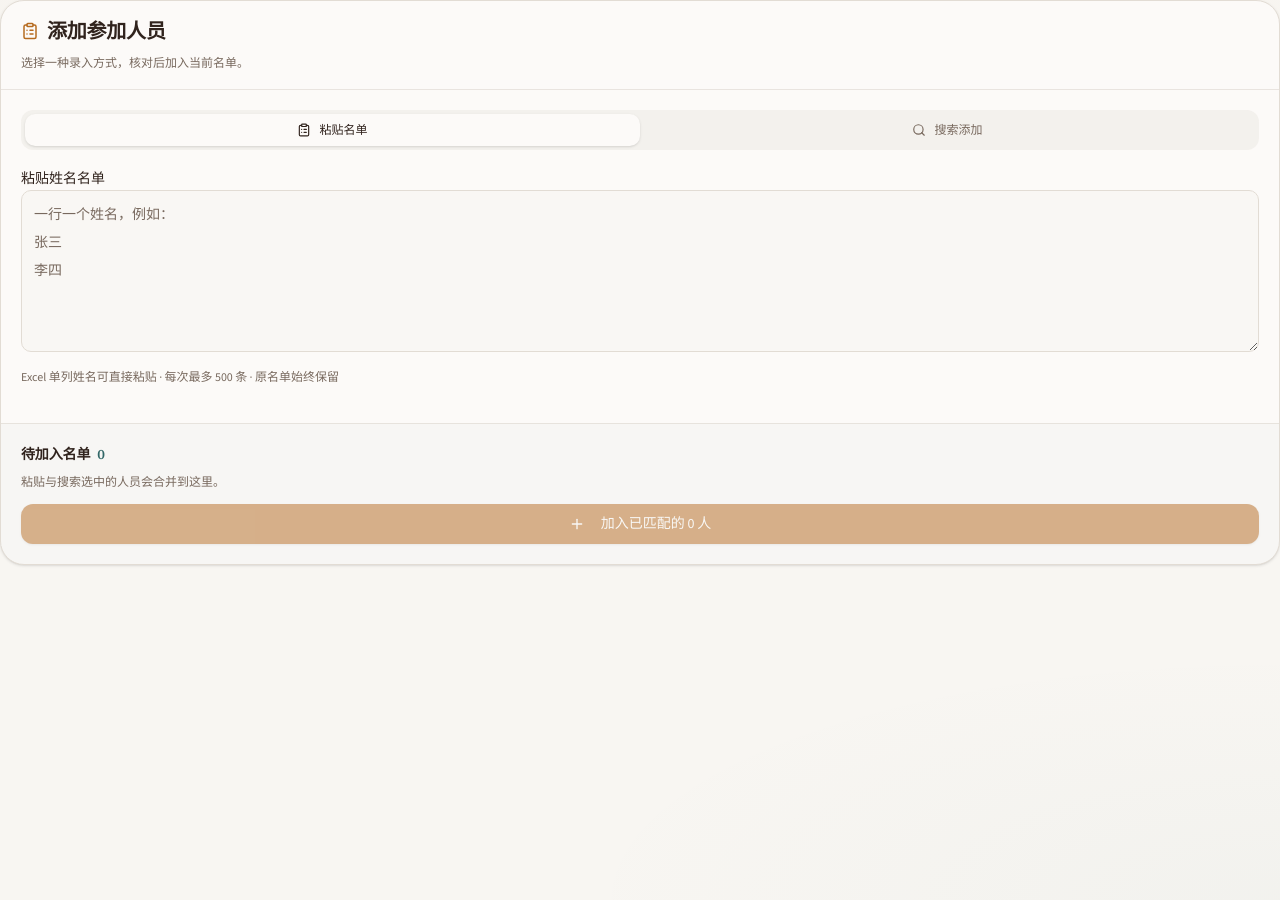
Test: training paste and shared draft › deduplicates search selection and pasted results in the shared pending list
The width and height of the screenshot is (1280, 900).
Click the tab "搜索添加": point(948, 130) [640,114,1255,146]
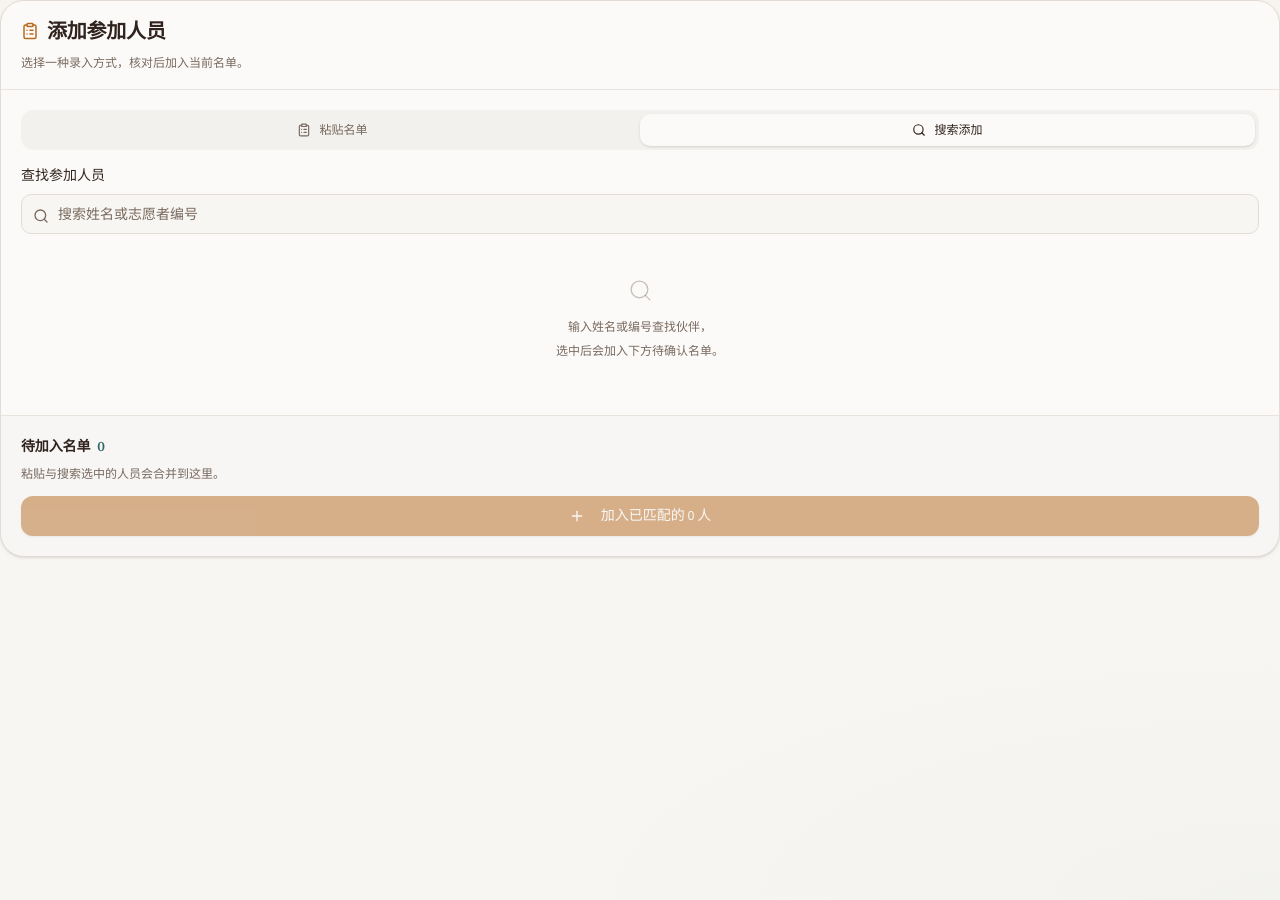
In the field named "搜索参加人员": point(640, 214) [21,194,1259,234], type "张三"
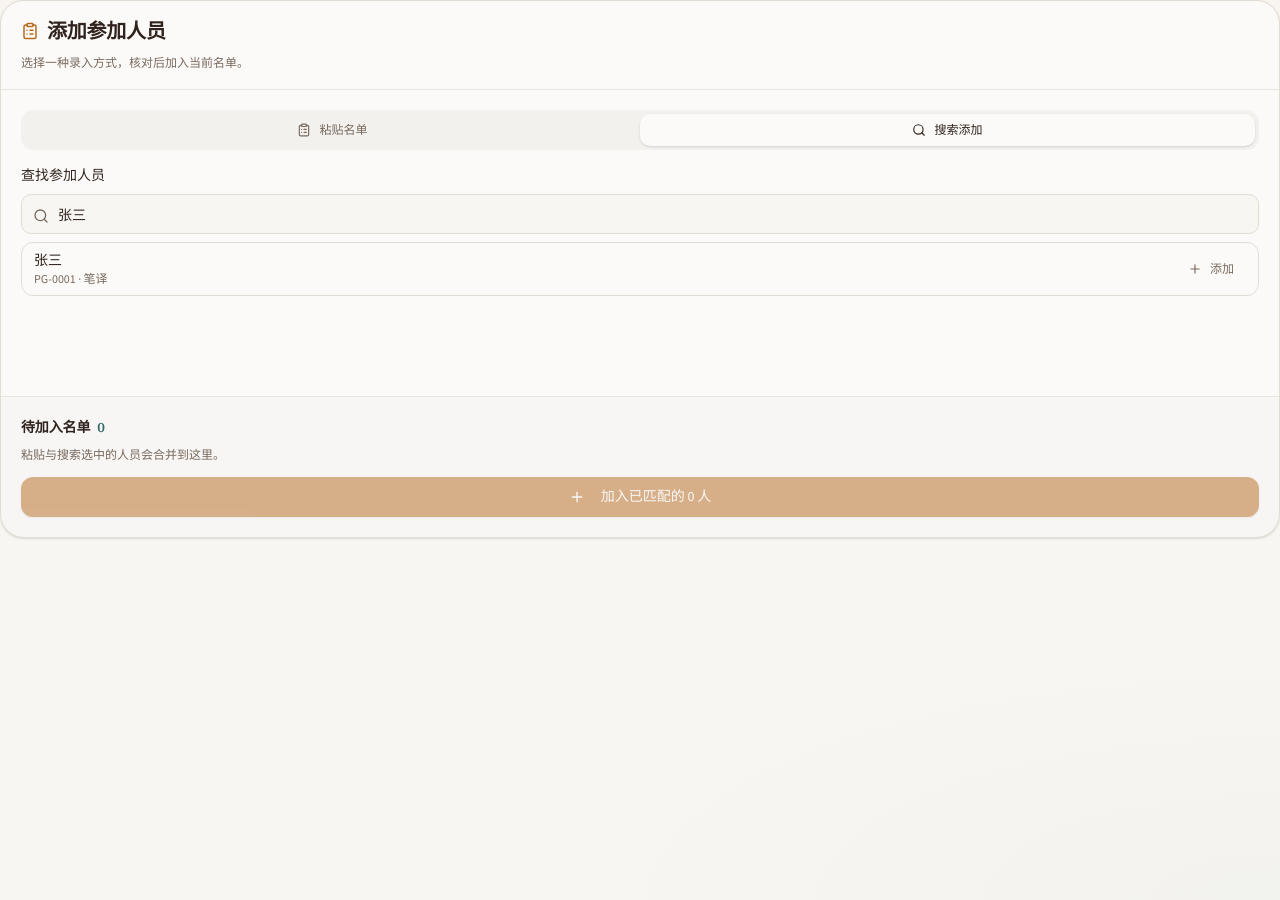
Click the button "添加": point(1211, 269) [1176,253,1246,285]
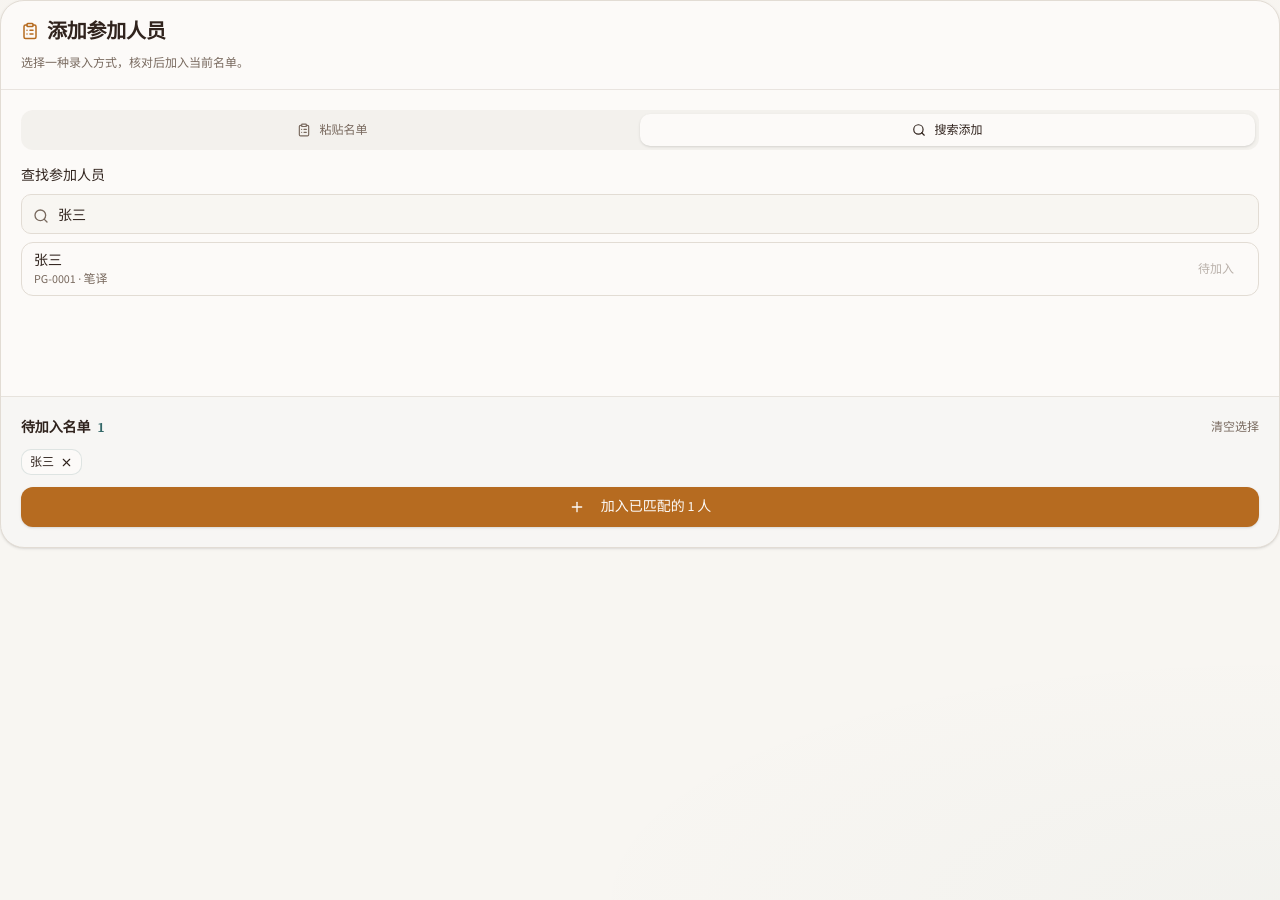
Click the tab "粘贴名单": point(332, 130) [25,114,640,146]
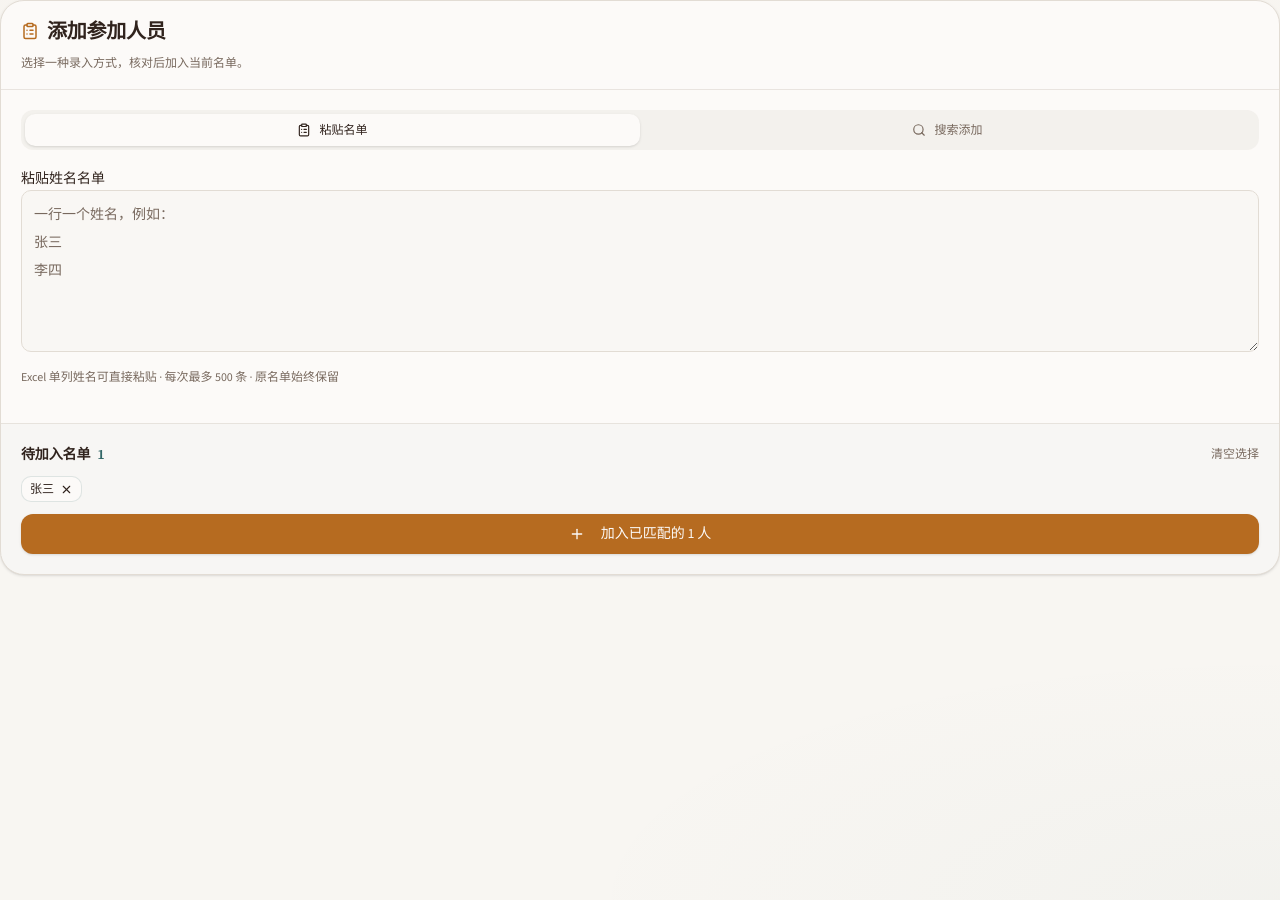
In the text box labelled "粘贴姓名名单": point(640, 271) [21,190,1259,352], type "张三"
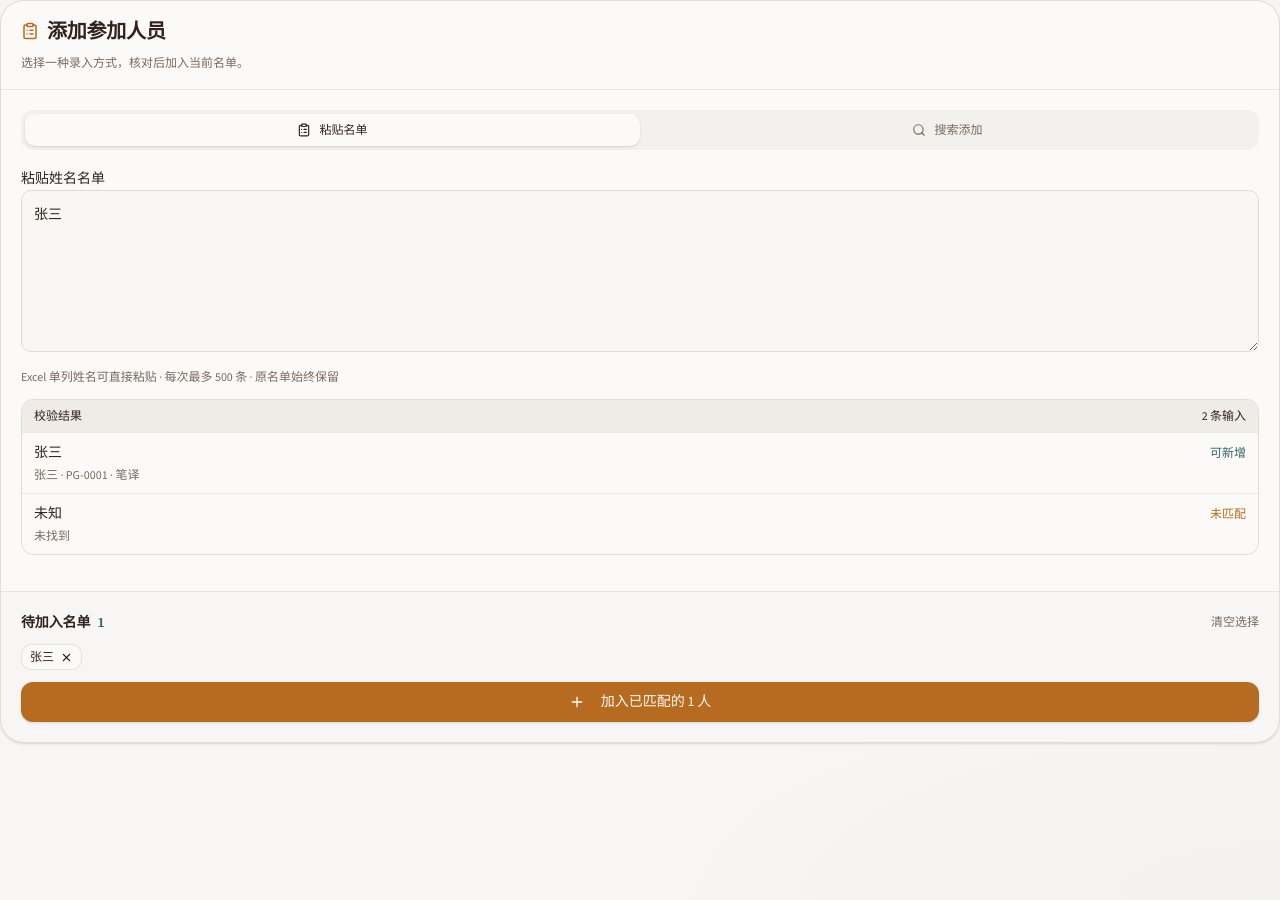
Expected: the button "加入已匹配的 1 人" is enabled, [21,682,1259,722]
Expected: the number of buttons named "移除待加入 张三" is 1, [60,650,73,664]
Expected: the text "可新增" is shown, [1210,445,1246,461]
